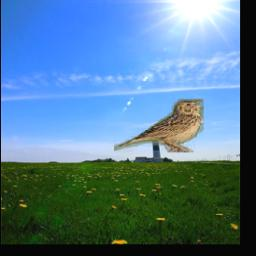Sparrow: (114, 100, 204, 153)
